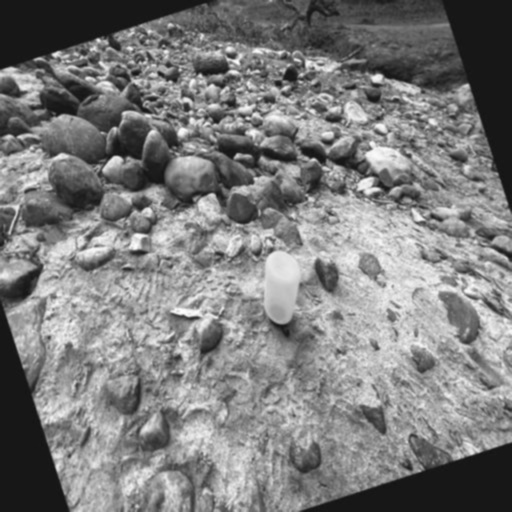bottle: (249, 246, 318, 340)
